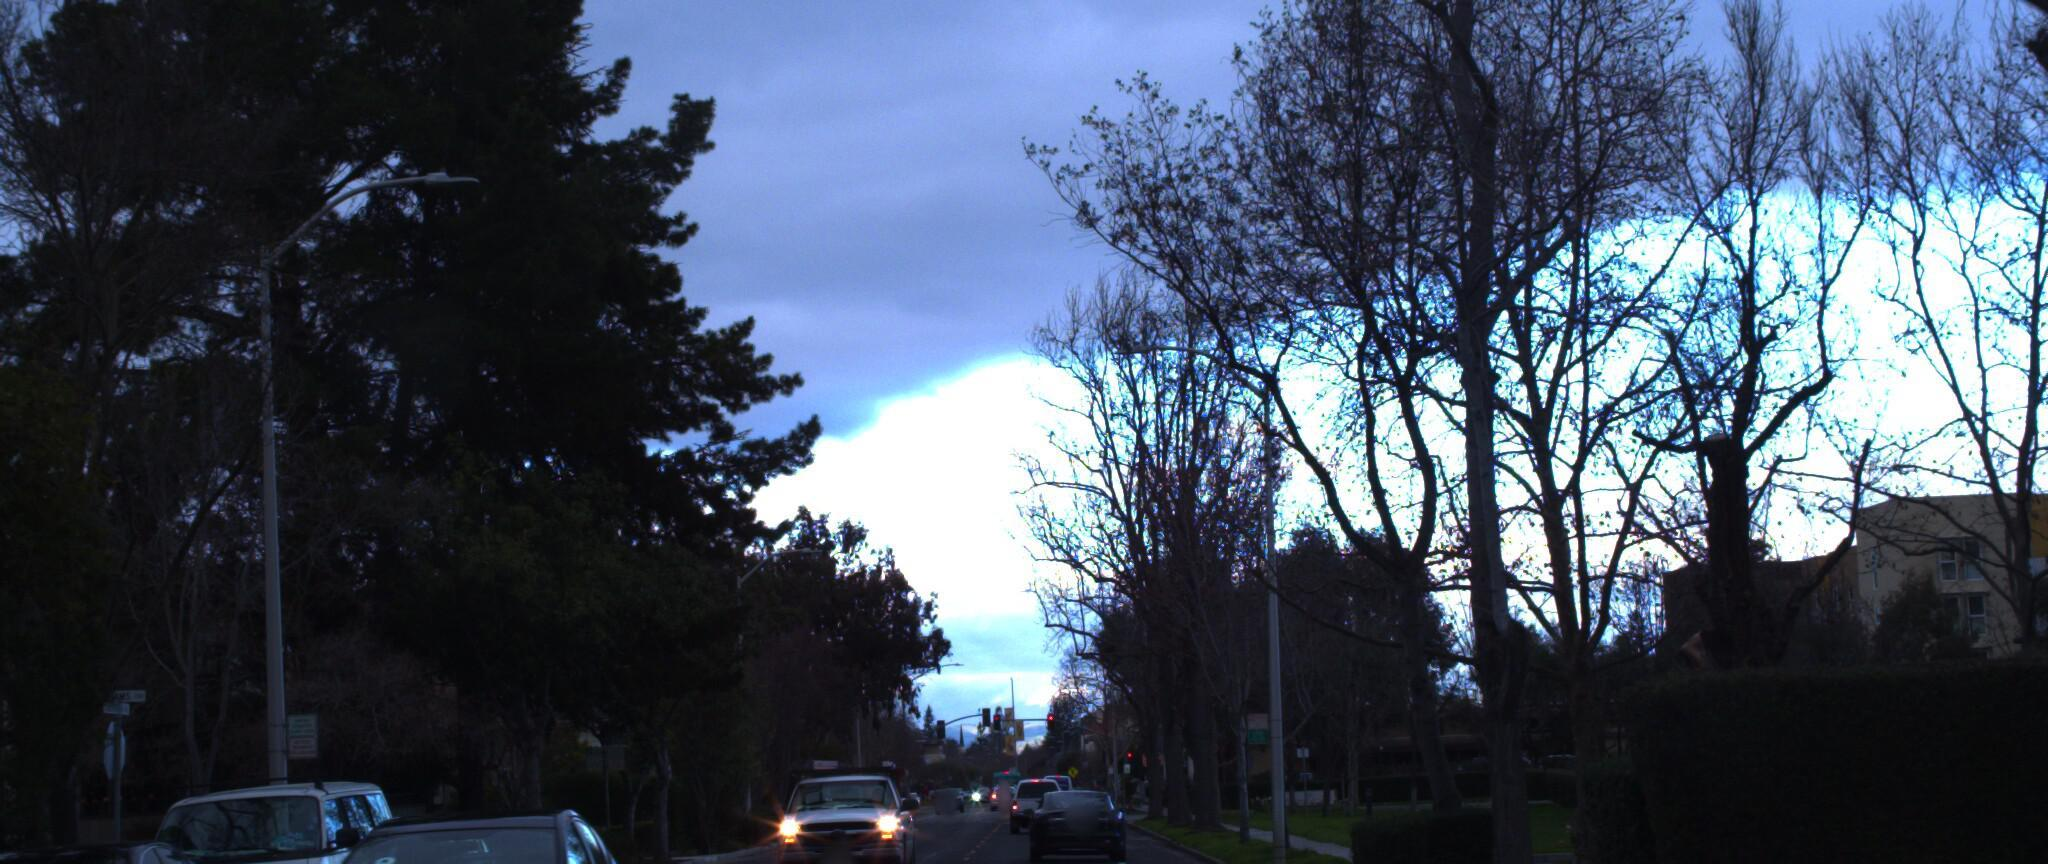car: (97, 769, 423, 864), (249, 791, 643, 864), (761, 743, 910, 864), (0, 825, 265, 864), (1014, 778, 1112, 864), (0, 833, 7, 864)
